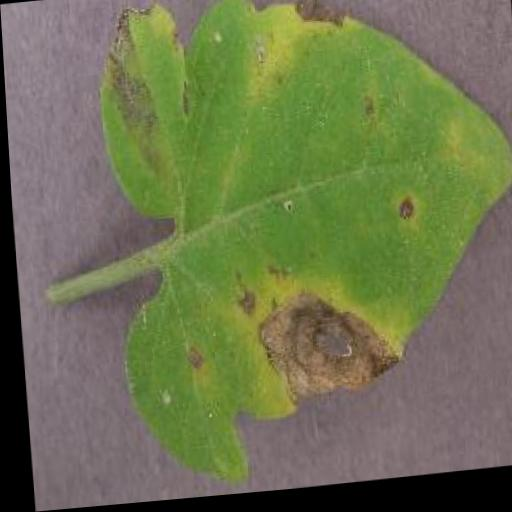Septoria: (90, 0, 512, 496)
